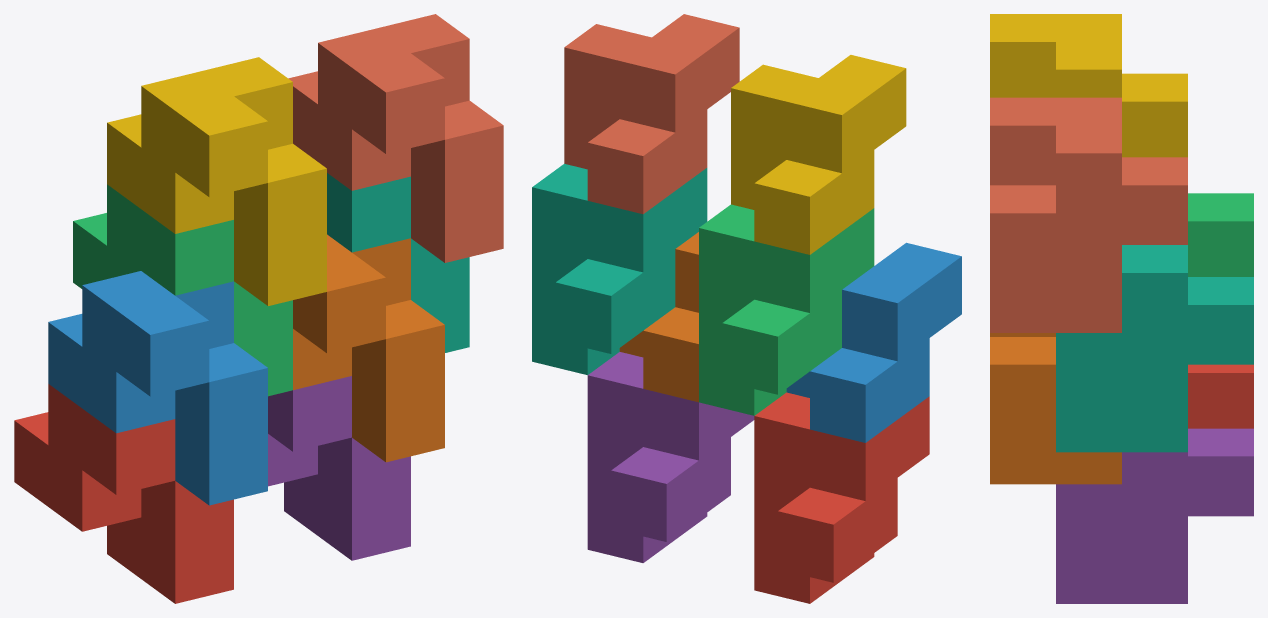
The model's file is tiling.obj.
3 views of the same model, side by side, from view 1: azimuth 30°, elevation 25°; view 2: azimuth 150°, elevation 25°; view 3: azimuth 270°, elevation 25° (orthographic). The views are drawn at different scales.
Parts seen in each view (by area): view 1: copy_1_domain_4, copy_1_domain_8, copy_1_domain_2, copy_1_domain_1, copy_1_domain_6, copy_1_domain_5, copy_1_domain_3, copy_1_domain_7; view 2: copy_1_domain_4, copy_1_domain_8, copy_1_domain_1, copy_1_domain_7, copy_1_domain_3, copy_1_domain_5, copy_1_domain_2, copy_1_domain_6; view 3: copy_1_domain_8, copy_1_domain_7, copy_1_domain_5, copy_1_domain_4, copy_1_domain_6, copy_1_domain_3, copy_1_domain_1.
Part boxes in pixels (left/top/right/bottom): copy_1_domain_4: left=107, top=57, right=326, bottom=305; copy_1_domain_8: left=288, top=14, right=503, bottom=262; copy_1_domain_2: left=48, top=271, right=267, bottom=505; copy_1_domain_1: left=14, top=384, right=233, bottom=603; copy_1_domain_6: left=293, top=234, right=444, bottom=462; copy_1_domain_5: left=268, top=376, right=410, bottom=560; copy_1_domain_3: left=73, top=184, right=292, bottom=396; copy_1_domain_7: left=327, top=173, right=469, bottom=352; copy_1_domain_4: left=731, top=55, right=906, bottom=254; copy_1_domain_8: left=564, top=14, right=739, bottom=214; copy_1_domain_1: left=754, top=392, right=929, bottom=603; copy_1_domain_7: left=532, top=163, right=707, bottom=375; copy_1_domain_3: left=699, top=204, right=874, bottom=415; copy_1_domain_5: left=587, top=352, right=754, bottom=562; copy_1_domain_2: left=786, top=242, right=961, bottom=442; copy_1_domain_6: left=619, top=232, right=698, bottom=402; copy_1_domain_8: left=990, top=97, right=1187, bottom=332; copy_1_domain_7: left=1056, top=245, right=1253, bottom=452; copy_1_domain_5: left=1056, top=428, right=1253, bottom=603; copy_1_domain_4: left=990, top=14, right=1187, bottom=157; copy_1_domain_6: left=990, top=333, right=1121, bottom=484; copy_1_domain_3: left=1188, top=193, right=1253, bottom=276; copy_1_domain_1: left=1188, top=364, right=1253, bottom=428.
Bounding box in the file's own units: 6 × 8 × 4.
